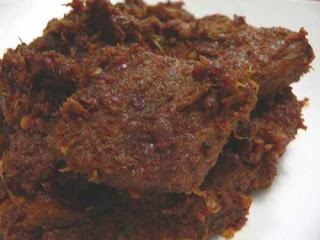rendang: (4, 9, 303, 233)
